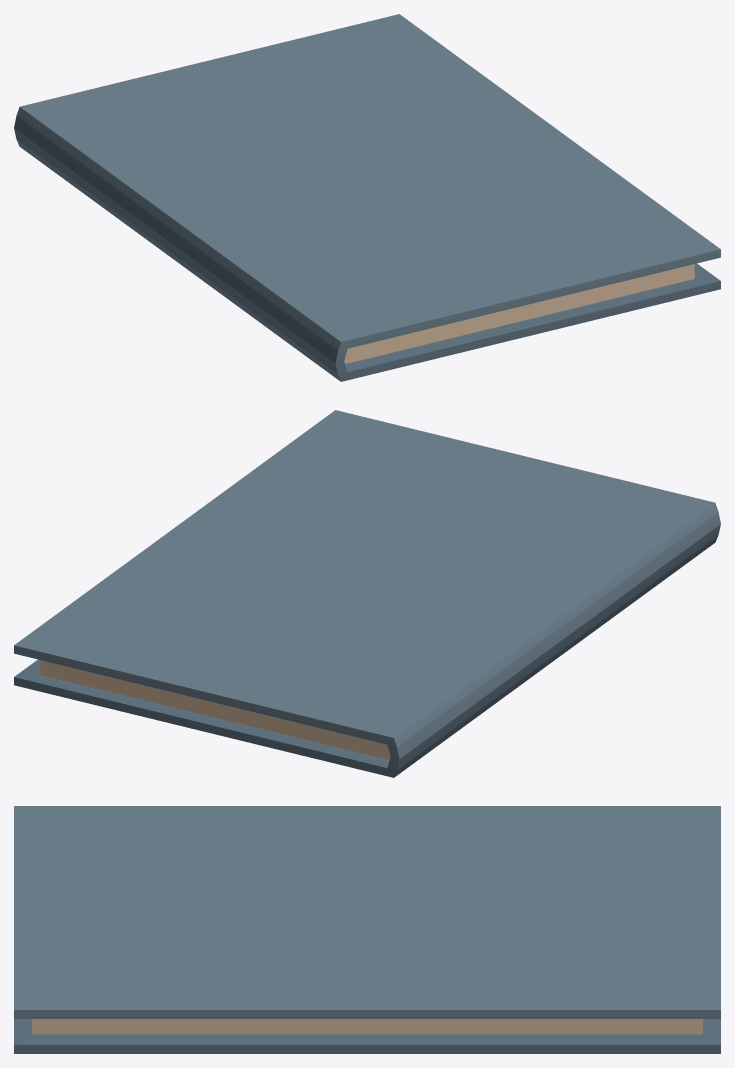
File: Book_12.fbx
3 views of the same model, one above another, from view 1: azimuth 30°, elevation 25°; view 2: azimuth 150°, elevation 25°; view 3: azimuth 270°, elevation 25° (orthographic). The views are drawn at different scales.
Visible parts, largest first — view 1: Book_12; view 2: Book_12; view 3: Book_12.
Boxes of the visible parts, x1,y1,x2,y2 form: Book_12: (14, 14, 720, 381); Book_12: (14, 410, 720, 777); Book_12: (14, 806, 720, 1053).
Bounding box in the file's own units: 18.46 × 1.83 × 26.67.
